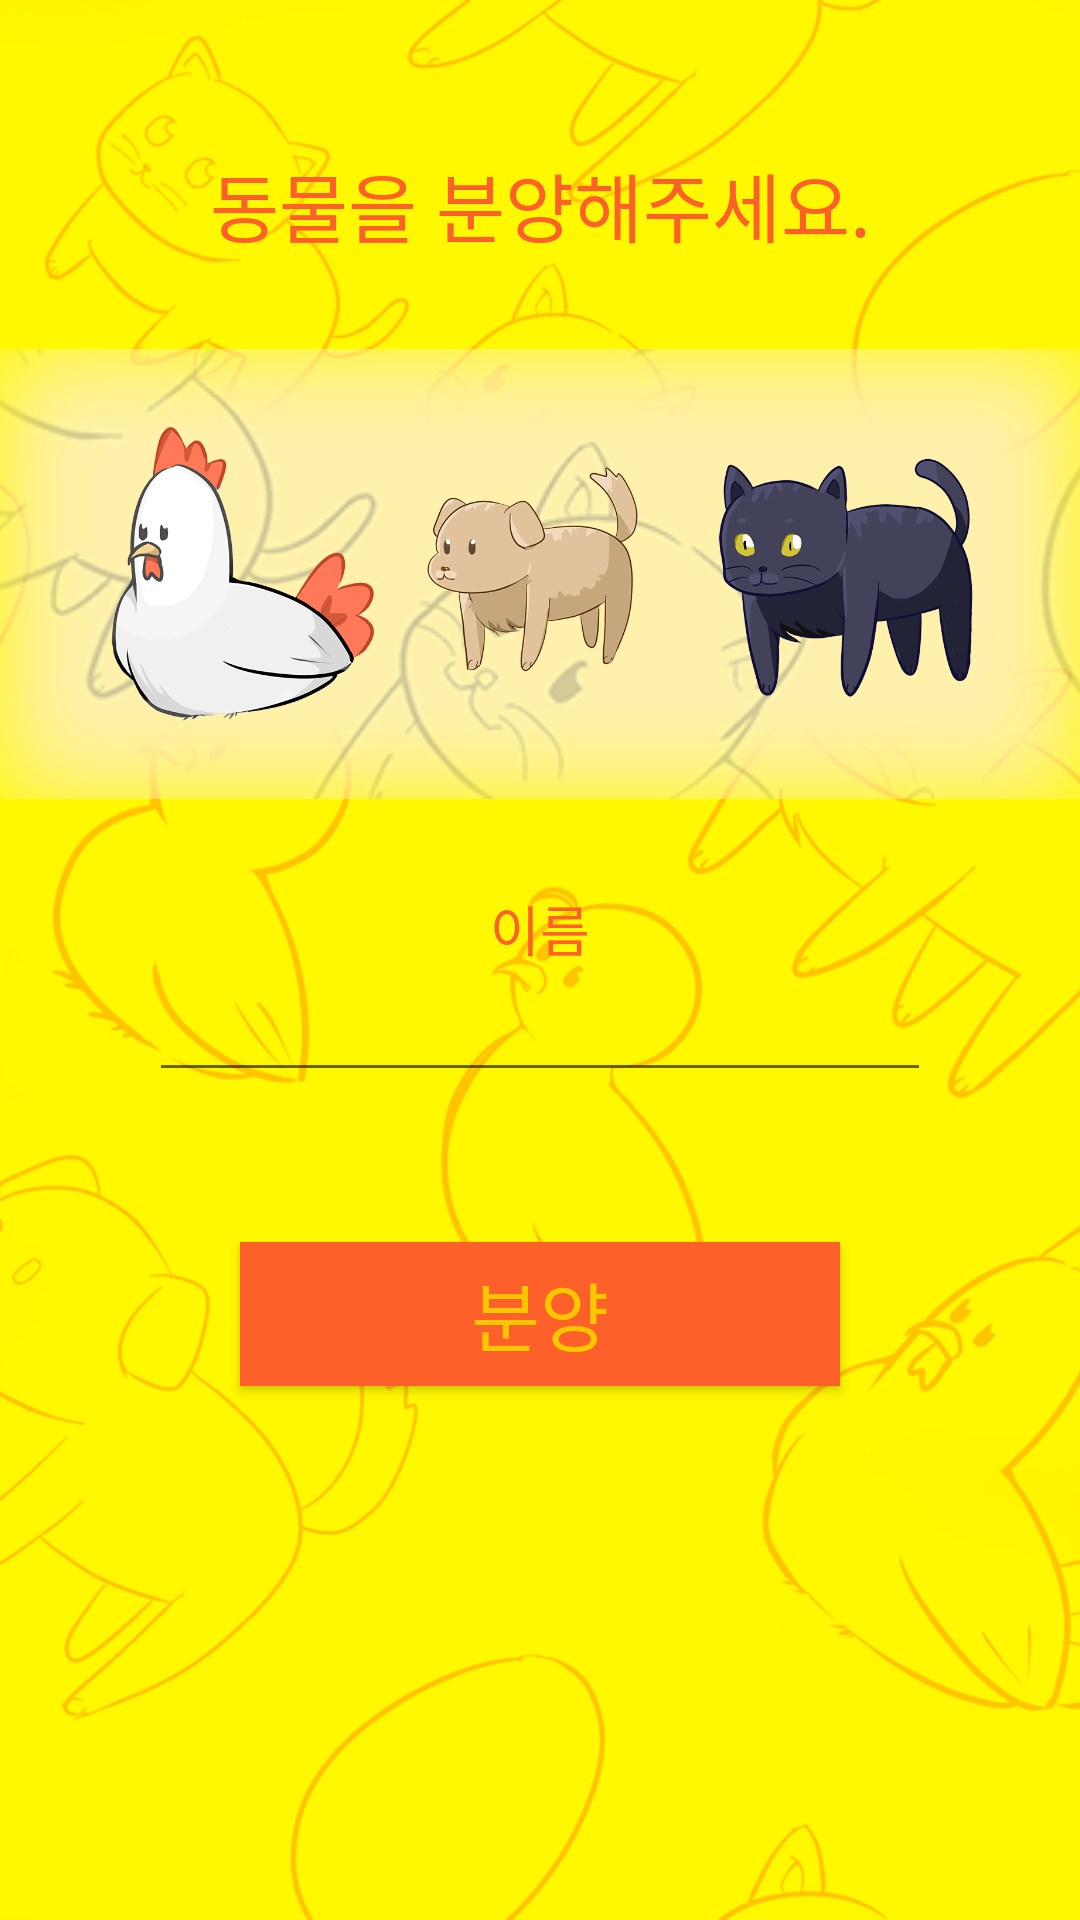

Locate icon controls on the screen. Image size 1080 × 1920, boxes as rect(x1, y1, x2, y2).
cat three: rect(693, 459, 973, 724)
chicken three: rect(90, 424, 390, 724)
dog three: rect(390, 441, 690, 724)
